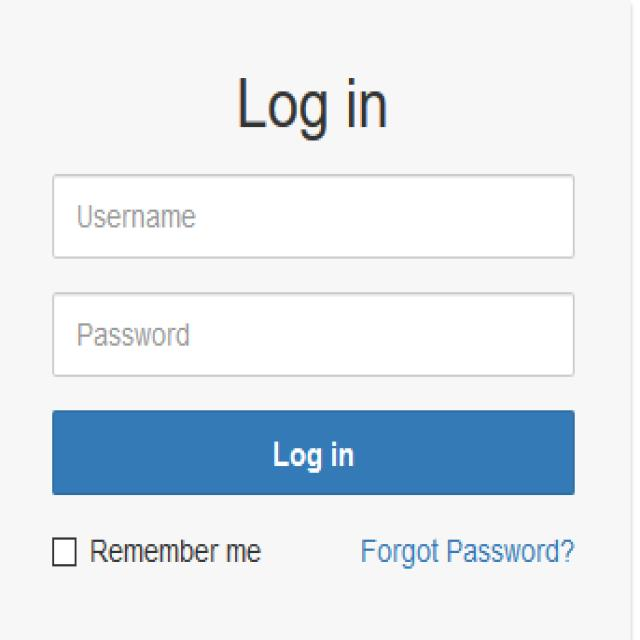buttons: (54, 411, 574, 495), (361, 534, 573, 573)
checkbox: (50, 537, 263, 572)
input-fields: (52, 176, 574, 264), (52, 296, 576, 375)
text: (240, 76, 386, 136)
